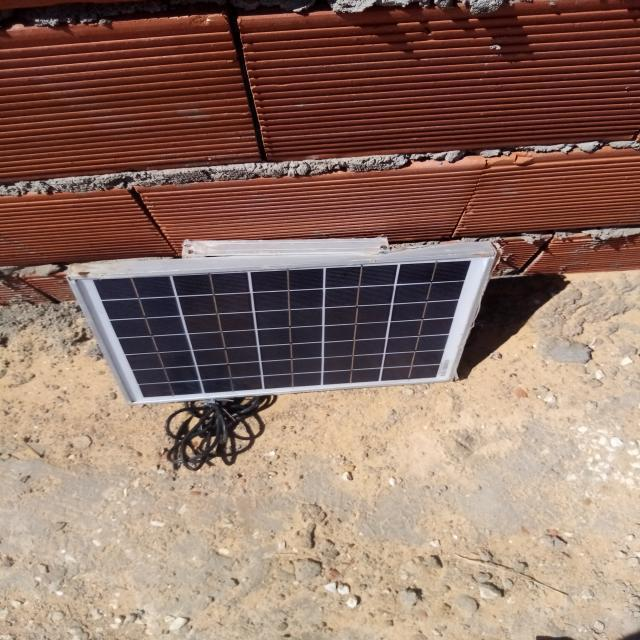Normal Solar Panel: (71, 255, 493, 405)
